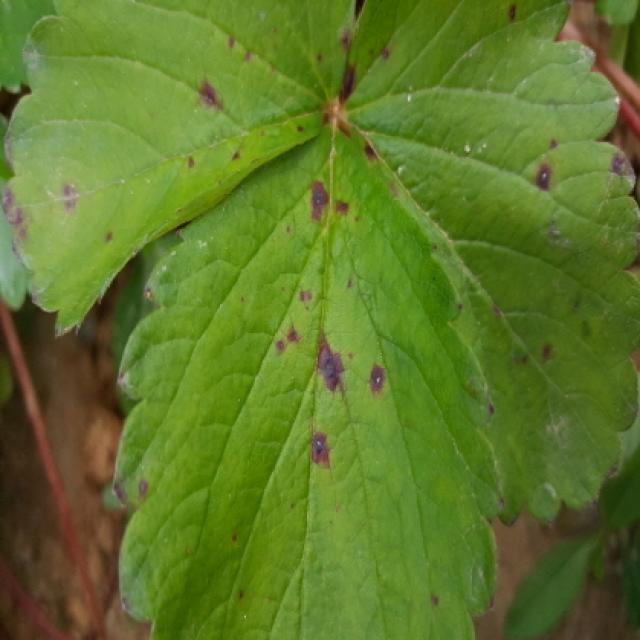Leaf Spot: (112, 117, 505, 638), (335, 0, 638, 530), (0, 0, 362, 342)
